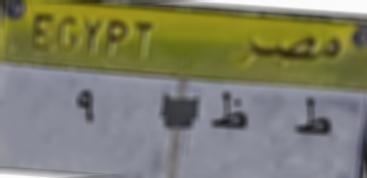9: (70, 86, 102, 132)
Taa: (292, 94, 338, 149)
Thaa: (204, 86, 252, 138)
